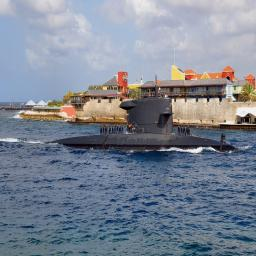submarine: (45, 98, 246, 156)
